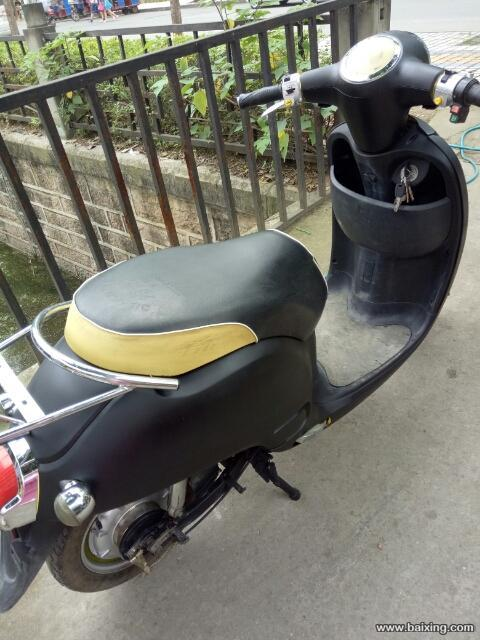电动车: (5, 16, 480, 611)
